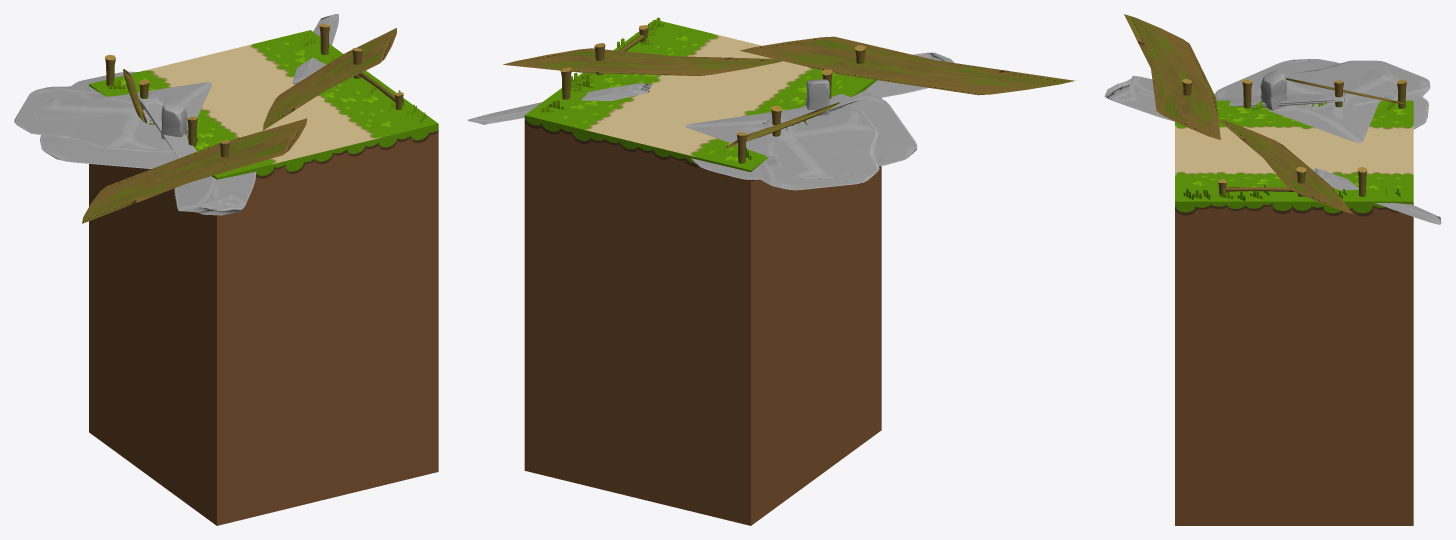
File: Plataforma 1.fbx
3 views of the same model, side by side, from view 1: azimuth 30°, elevation 25°; view 2: azimuth 150°, elevation 25°; view 3: azimuth 270°, elevation 25° (orthographic). The views are drawn at different scales.
Parts seen in each view (by area): view 1: Plataforma 1.001, Cylinder.079, Cube.092, Cube.091, Cylinder.070, Cube.106, Cube.084, Cube.083, Cube.122; view 2: Plataforma 1.001, Cylinder.079, Cube.092, Cube.091, Cylinder.070, Cube.122, Cube.106, Cube.083, Cube.084; view 3: Plataforma 1.001, Cylinder.079, Cube.092, Cube.091, Cylinder.070, Cube.106, Cube.122, Cube.084, Cube.083.
Part boxes in pixels (box(x1,y1,x2,y2)): Plataforma 1.001: box(89, 30, 438, 525); Cylinder.079: box(82, 118, 307, 223); Cube.092: box(34, 71, 211, 168); Cube.091: box(14, 86, 173, 152); Cylinder.070: box(263, 28, 396, 130); Cube.106: box(174, 171, 256, 215); Cube.084: box(138, 92, 196, 158); Cube.083: box(161, 100, 187, 139); Cube.122: box(292, 14, 338, 84); Plataforma 1.001: box(524, 19, 881, 525); Cylinder.079: box(740, 36, 1075, 95); Cube.092: box(685, 91, 917, 179); Cube.091: box(760, 104, 879, 190); Cylinder.070: box(503, 48, 788, 75); Cube.122: box(467, 83, 651, 124); Cube.106: box(864, 52, 954, 97); Cube.083: box(805, 79, 829, 115); Cube.084: box(762, 91, 869, 125); Plataforma 1.001: box(1175, 100, 1413, 525); Cylinder.079: box(1124, 14, 1220, 139); Cube.092: box(1214, 59, 1428, 143); Cube.091: box(1251, 60, 1430, 105); Cylinder.070: box(1216, 118, 1352, 213); Cube.106: box(1104, 76, 1173, 121); Cube.122: box(1312, 168, 1441, 224); Cube.084: box(1220, 93, 1345, 107); Cube.083: box(1260, 70, 1287, 110).
Bounding box in the file's own units: 1977 × 1641 × 1412.
